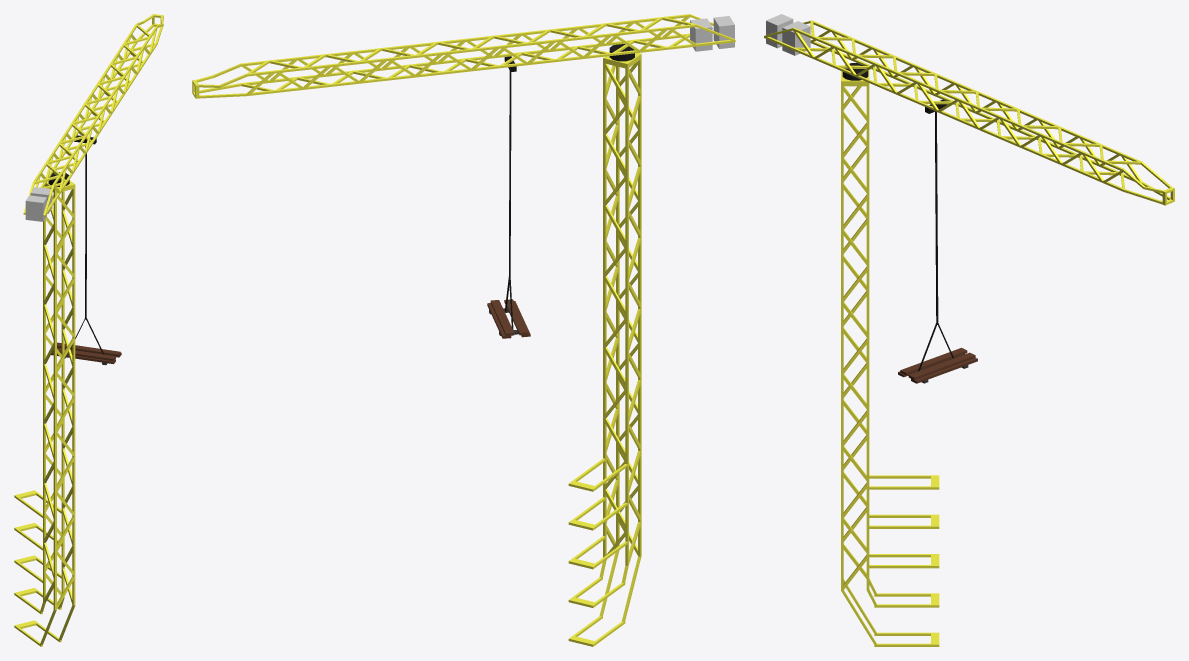
The model's file is crane-tower-rooftop.glb.
The picture shows the model from 3 angles, left to right: view 1: azimuth 30°, elevation 25°; view 2: azimuth 150°, elevation 25°; view 3: azimuth 270°, elevation 25°; orthographic projection. The views are drawn at different scales.
Visible parts, largest first — view 1: Crane Mounted; view 2: Crane Mounted; view 3: Crane Mounted.
Boxes of the visible parts, bbox=[...] form: Crane Mounted: bbox=[14, 14, 163, 646]; Crane Mounted: bbox=[192, 14, 735, 646]; Crane Mounted: bbox=[764, 14, 1174, 646].
Bounding box in the file's own units: 30.66 × 48.36 × 30.29.
1 material, 1 textured.
